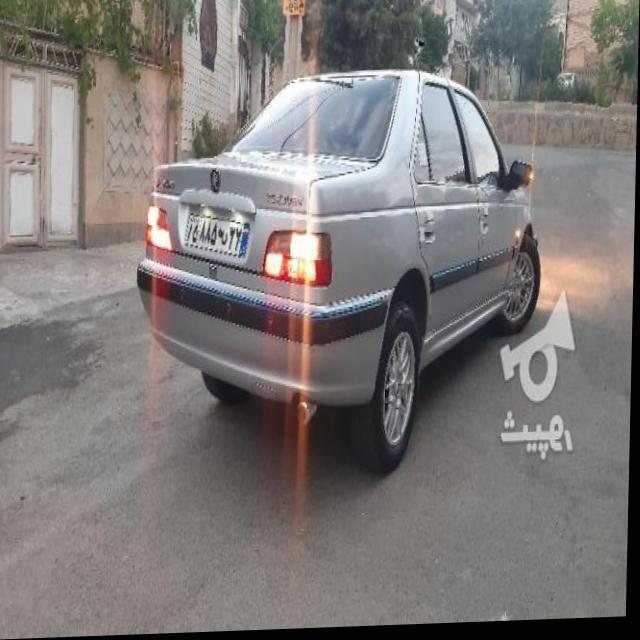licence: (184, 210, 252, 268)
